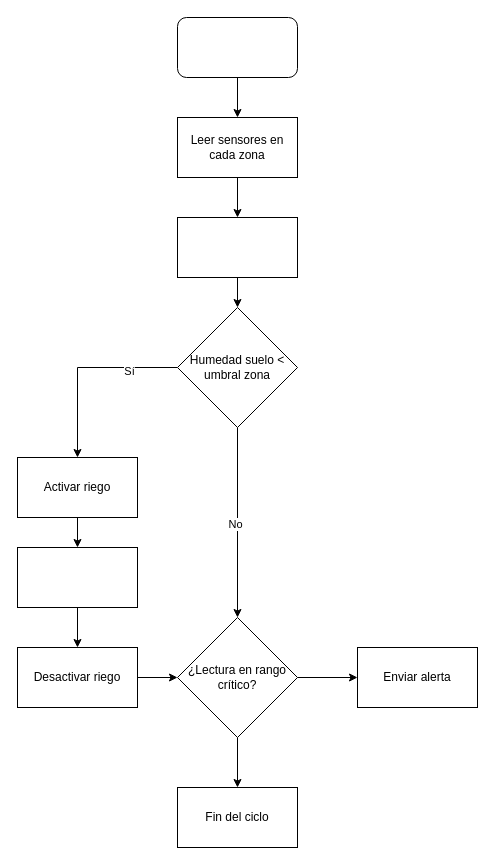
This 495x865 diagram has some shape labels left out. Each missing label, with the centre of its shape:
Almacenar datos SQlite: the point at 237,247
Esperar duración: the point at 77,577
Inicio: the point at 237,47
